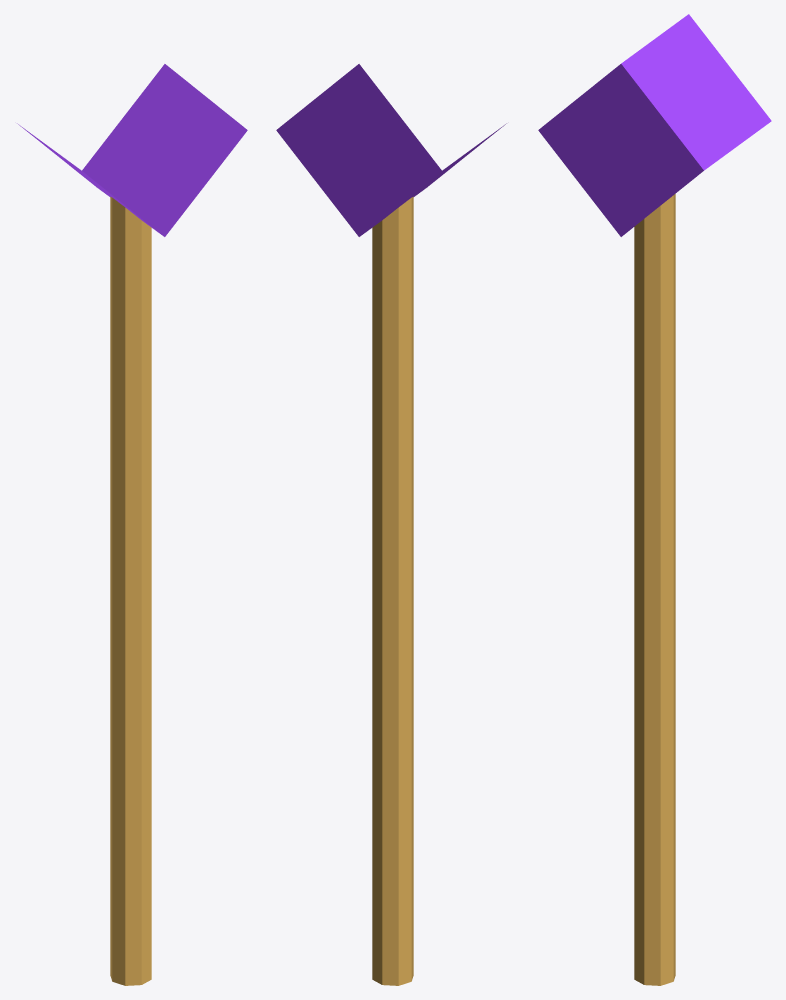
Rendered from lion.glb.
3 views of the same model, side by side, from view 1: azimuth 30°, elevation 25°; view 2: azimuth 150°, elevation 25°; view 3: azimuth 330°, elevation 25° (orthographic).
Visible parts, largest first — view 1: lion-shaft, lion-head-gem; view 2: lion-shaft, lion-head-gem; view 3: lion-shaft, lion-head-gem.
Boxes of the visible parts, x1,y1,x2,y2 form: lion-shaft: (110, 196, 151, 985); lion-head-gem: (17, 64, 247, 236); lion-shaft: (372, 196, 413, 985); lion-head-gem: (276, 64, 506, 236); lion-shaft: (634, 194, 675, 985); lion-head-gem: (538, 14, 771, 236).
Bounding box in the file's own units: 0.3111 × 1.68 × 0.22.
